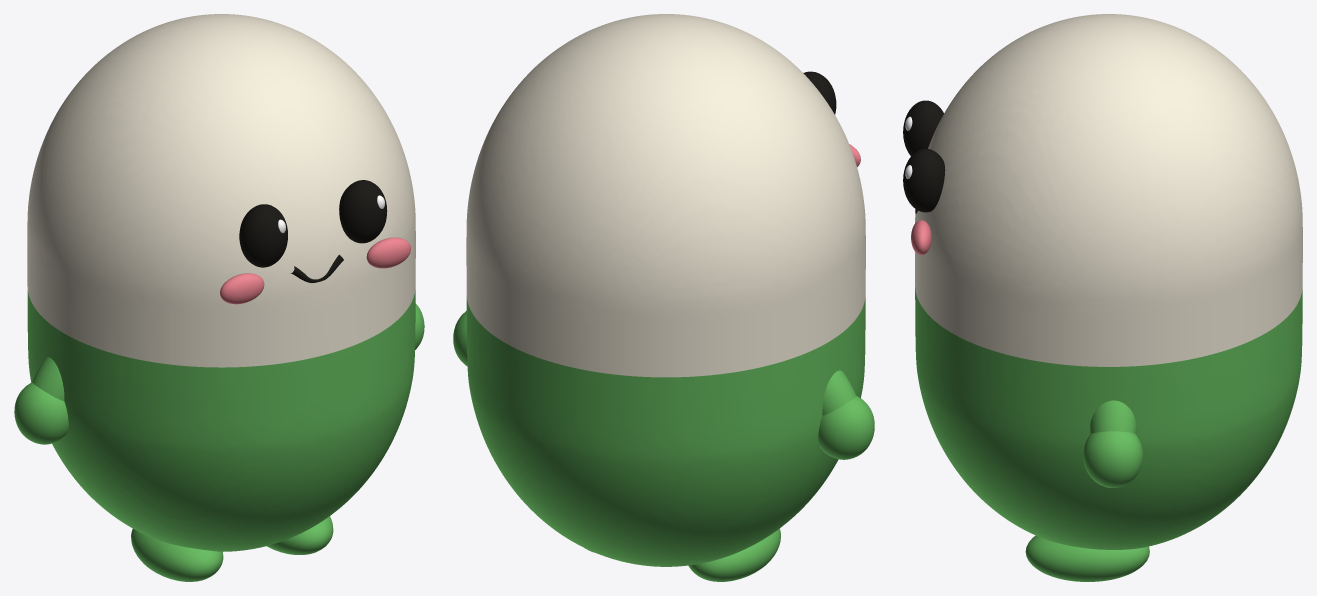
Rendered from cupsey-DHNIZWmH.glb.
The picture shows the model from 3 angles, left to right: view 1: azimuth 30°, elevation 25°; view 2: azimuth 150°, elevation 25°; view 3: azimuth 270°, elevation 25°; orthographic projection. The views are drawn at different scales.
Visible parts, largest first — view 1: Body, FootMesh, HandMesh, FootMesh.001, ArmMesh; view 2: Body, HandMesh, FootMesh, ArmMesh, HandMesh.001; view 3: Body, FootMesh.001, HandMesh.001, ArmMesh.001.
Part boxes in pixels (box(x1,y1,x2,y2)): Body: box(27, 14, 415, 551); FootMesh: box(131, 529, 223, 581); HandMesh: box(14, 382, 68, 444); FootMesh.001: box(266, 516, 333, 554); ArmMesh: box(32, 357, 64, 401); Body: box(466, 14, 865, 566); HandMesh: box(818, 396, 874, 459); FootMesh: box(688, 528, 780, 581); ArmMesh: box(822, 370, 856, 415); HandMesh.001: box(453, 311, 467, 366); Body: box(903, 14, 1302, 549); FootMesh.001: box(1025, 535, 1149, 581); HandMesh.001: box(1083, 431, 1143, 487); ArmMesh.001: box(1090, 400, 1136, 434).
Size of the model in its own units: 2.19 by 2.71 by 1.89.
